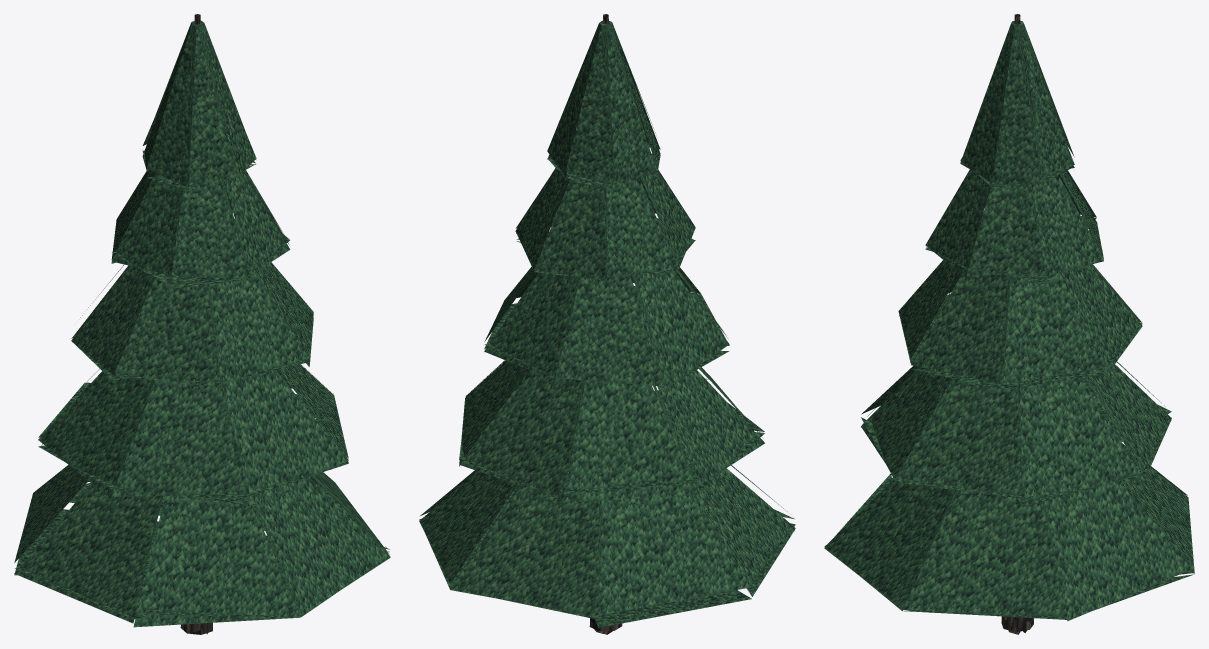
File: VG_Tree_Pine.obj
3 renders of one model, left to right at view 1: azimuth 30°, elevation 25°; view 2: azimuth 150°, elevation 25°; view 3: azimuth 270°, elevation 25°, orthographic.
Parts seen in each view (by area): view 1: VG_Tree_Pine_Mesh_M_Town_PineNeedles; view 2: VG_Tree_Pine_Mesh_M_Town_PineNeedles; view 3: VG_Tree_Pine_Mesh_M_Town_PineNeedles, VG_Tree_Pine_Mesh_M_Grnd_TreeBark.
Boxes of the visible parts, bbox=[...] form: VG_Tree_Pine_Mesh_M_Town_PineNeedles: bbox=[14, 20, 390, 627]; VG_Tree_Pine_Mesh_M_Town_PineNeedles: bbox=[419, 20, 795, 627]; VG_Tree_Pine_Mesh_M_Town_PineNeedles: bbox=[824, 21, 1194, 621]; VG_Tree_Pine_Mesh_M_Grnd_TreeBark: bbox=[1001, 14, 1033, 634].
Size of the model in its own units: 4.48 by 8.09 by 4.41.
2 materials, 2 textured.
